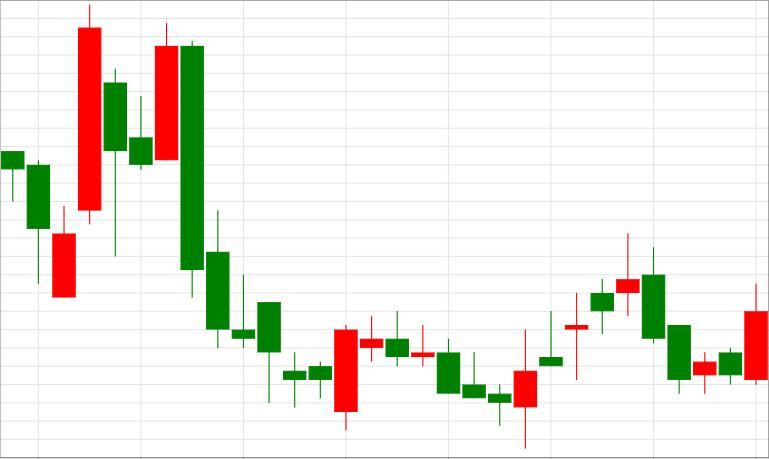bullish_engulfing_rise: (181, 42, 358, 431), (386, 311, 536, 449)
